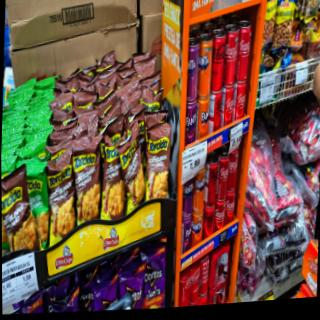beverage: (197, 34, 213, 100), (223, 21, 239, 87), (211, 27, 227, 92), (237, 16, 252, 81), (204, 155, 220, 207), (215, 144, 229, 202), (185, 39, 199, 96), (226, 144, 241, 194), (194, 169, 208, 218), (220, 82, 235, 127), (232, 76, 247, 118), (200, 203, 218, 238), (209, 90, 222, 134), (187, 97, 200, 140), (182, 179, 195, 222), (197, 94, 211, 133), (191, 208, 203, 245), (215, 201, 228, 229), (181, 220, 193, 248), (228, 194, 238, 221)
food-box: (38, 152, 78, 241), (68, 142, 102, 221), (141, 123, 172, 206), (117, 137, 150, 214), (1, 178, 32, 257), (20, 167, 50, 239), (102, 140, 124, 219), (139, 255, 166, 310), (120, 269, 146, 311), (90, 284, 120, 312)
